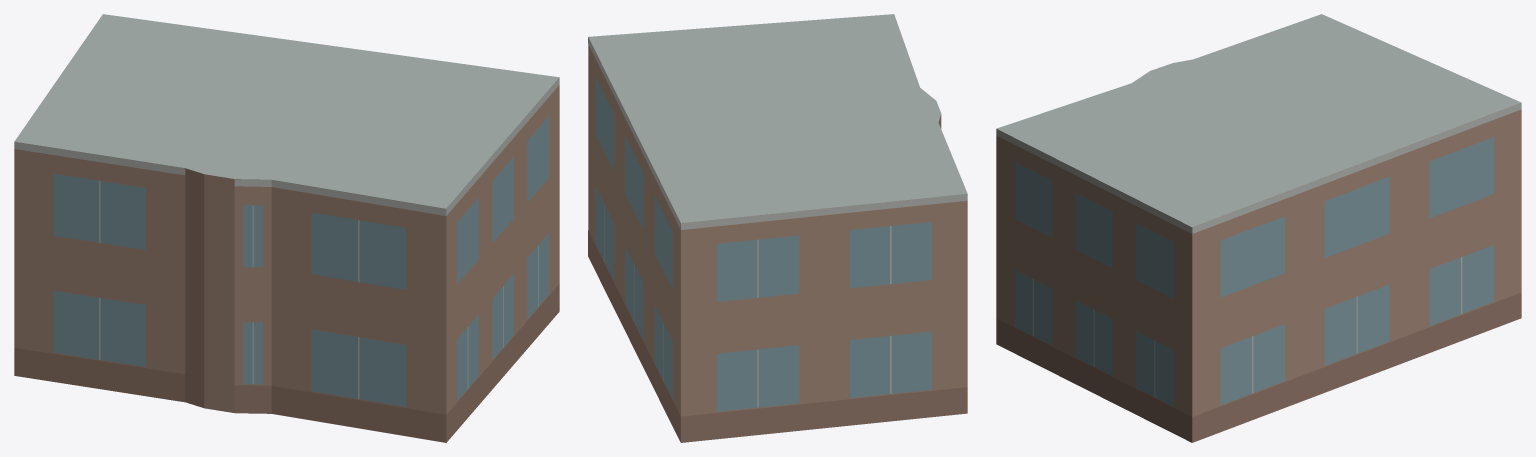
The model's file is survey-upis-32625112.glb.
3 renders of one model, left to right at view 1: azimuth 30°, elevation 25°; view 2: azimuth 150°, elevation 25°; view 3: azimuth 270°, elevation 25°, orthographic. The views are drawn at different scales.
Parts seen in each view (by area): view 1: survey-upis-32625112.tmp; view 2: survey-upis-32625112.tmp; view 3: survey-upis-32625112.tmp.
Boxes of the visible parts, x1,y1,x2,y2 form: survey-upis-32625112.tmp: (14,14,559,442); survey-upis-32625112.tmp: (588,14,967,442); survey-upis-32625112.tmp: (996,14,1521,442).
Bounding box in the file's own units: 16.57 × 7.8 × 17.24.
